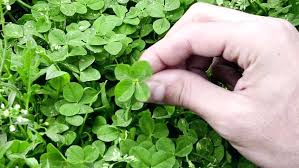4-clover: (112, 61, 150, 102)
